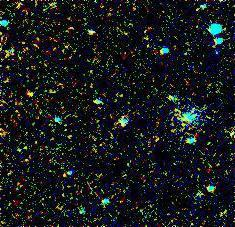star: (16, 76, 46, 106)
